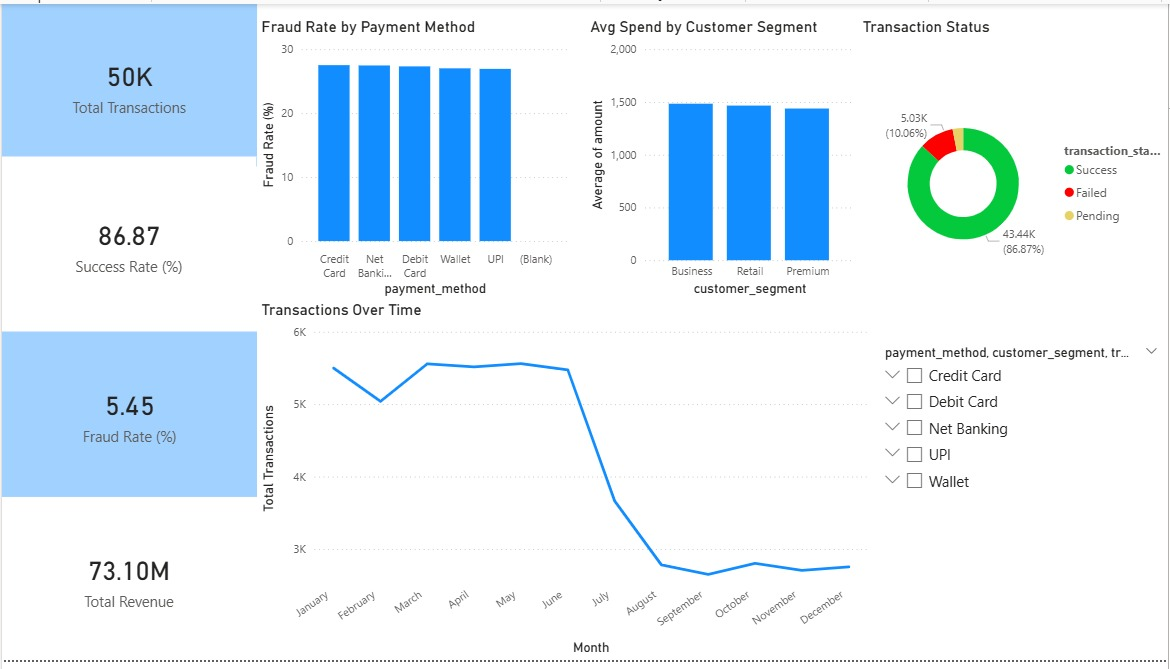

This screenshot's page, from the dashboard's own definition file:
{"tool":"powerbi","page":{"name":"Analysis","canvas":[1280,720],"ordinal":0},"visuals":[{"type":"card","fields":{"Values":["transactions.Total Transactions"]},"box":[0,0,279.9,178.4],"z":0},{"type":"card","fields":{"Values":["transactions.Success Rate (%)"]},"box":[0,167.8,279.2,191.8],"z":1000},{"type":"card","fields":{"Values":["fraud_flags.Fraud Rate (%)"]},"box":[0,359.6,280.6,181.9],"z":2000},{"type":"card","fields":{"Values":["Sum(transactions.amount)"]},"box":[0,541.4,279.2,179.1],"z":3000},{"type":"lineChart","title":"Transactions Over Time","fields":{"Category":["transactions.transaction_date.Variation.Date Hierarchy.Year","transactions.transaction_date.Variation.Date Hierarchy.Quarter","transactions.transaction_date.Variation.Date Hierarchy.Month","transactions.transaction_date.Variation.Date Hierarchy.Day"],"Y":["transactions.Total Transactions"]},"box":[280.6,325.7,675.4,394.8],"z":4000},{"type":"donutChart","title":"Transaction Status","fields":{"Category":["transactions.transaction_status"],"Y":["CountNonNull(transactions.transaction_id)"]},"box":[940.5,15.5,339.8,344],"z":5000},{"type":"clusteredColumnChart","title":"Fraud Rate by Payment Method","fields":{"Y":["fraud_flags.Fraud Rate (%)"],"Category":["transactions.payment_method"]},"box":[280.6,15.5,346.9,310.2],"z":6000},{"type":"columnChart","title":"Avg Spend by Customer Segment","fields":{"Category":["users.customer_segment"],"Y":["Avg(transactions.amount)"]},"box":[640.1,15.5,300.3,310.2],"z":7000},{"type":"slicer","fields":{"Values":["transactions.payment_method","users.customer_segment","transactions.transaction_date","transactions.city"]},"box":[956,369.4,324.3,351.1],"z":8000}]}

Visuals, with their boxes in screenshot pixels (x1, y1, x2, y2), scaled from the page's 1280x720 canvas onto the 1170x669 screenshot:
card - transactions.Total Transactions: (x1=0, y1=0, x2=256, y2=166)
card - transactions.Success Rate (%): (x1=0, y1=156, x2=255, y2=334)
card - fraud_flags.Fraud Rate (%): (x1=0, y1=334, x2=256, y2=503)
card - Sum(transactions.amount): (x1=0, y1=503, x2=255, y2=668)
"Transactions Over Time" lineChart: (x1=256, y1=303, x2=874, y2=668)
"Transaction Status" donutChart: (x1=860, y1=14, x2=1169, y2=334)
"Fraud Rate by Payment Method" clusteredColumnChart: (x1=256, y1=14, x2=574, y2=303)
"Avg Spend by Customer Segment" columnChart: (x1=585, y1=14, x2=860, y2=303)
slicer - transactions.payment_method x users.customer_segment: (x1=874, y1=343, x2=1169, y2=668)
